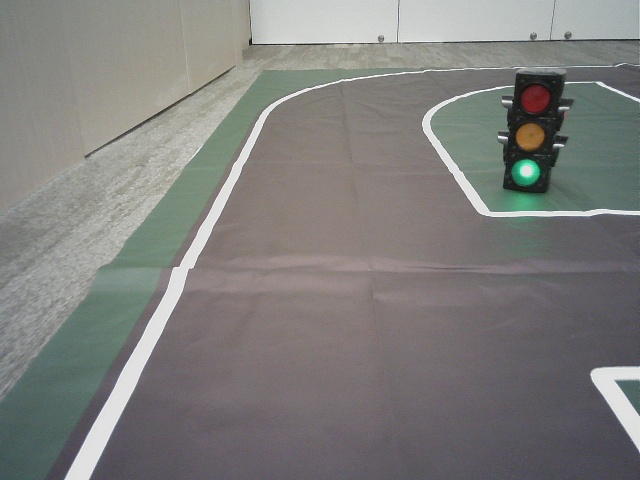green: (508, 80, 549, 192)
